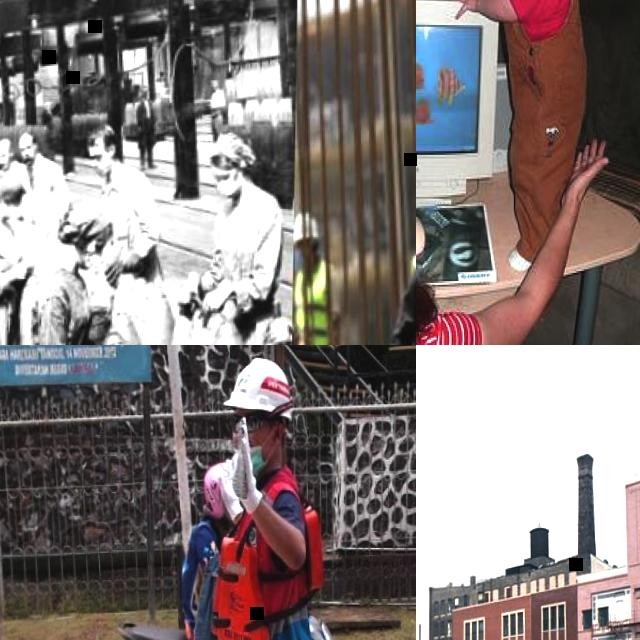Hardhat: (220, 350, 293, 416), (202, 456, 229, 516), (297, 210, 323, 244)
Mask: (81, 251, 102, 271), (219, 178, 241, 197), (296, 247, 309, 271), (9, 205, 24, 220), (94, 162, 110, 176)
NO-Hardhat: (62, 199, 115, 239), (208, 132, 255, 167), (0, 174, 29, 202), (87, 123, 119, 147), (18, 131, 38, 147), (0, 137, 13, 151), (209, 79, 222, 86), (140, 87, 150, 94)
NO-Safety Vest: (501, 0, 587, 111), (35, 265, 92, 345), (213, 192, 262, 276), (187, 522, 222, 612), (100, 173, 143, 244), (416, 304, 481, 345), (22, 163, 55, 217), (0, 212, 19, 301), (137, 102, 156, 124), (208, 93, 224, 113), (1, 164, 23, 178)
Person: (451, 0, 612, 272), (416, 134, 610, 345), (207, 346, 324, 640), (28, 195, 137, 345), (198, 132, 284, 313), (83, 122, 166, 278), (179, 462, 225, 634), (294, 215, 350, 345), (0, 175, 28, 345), (17, 129, 72, 214), (135, 86, 157, 170), (210, 77, 229, 138), (0, 137, 25, 172)
Safety Vest: (210, 476, 322, 640), (295, 265, 338, 345)
